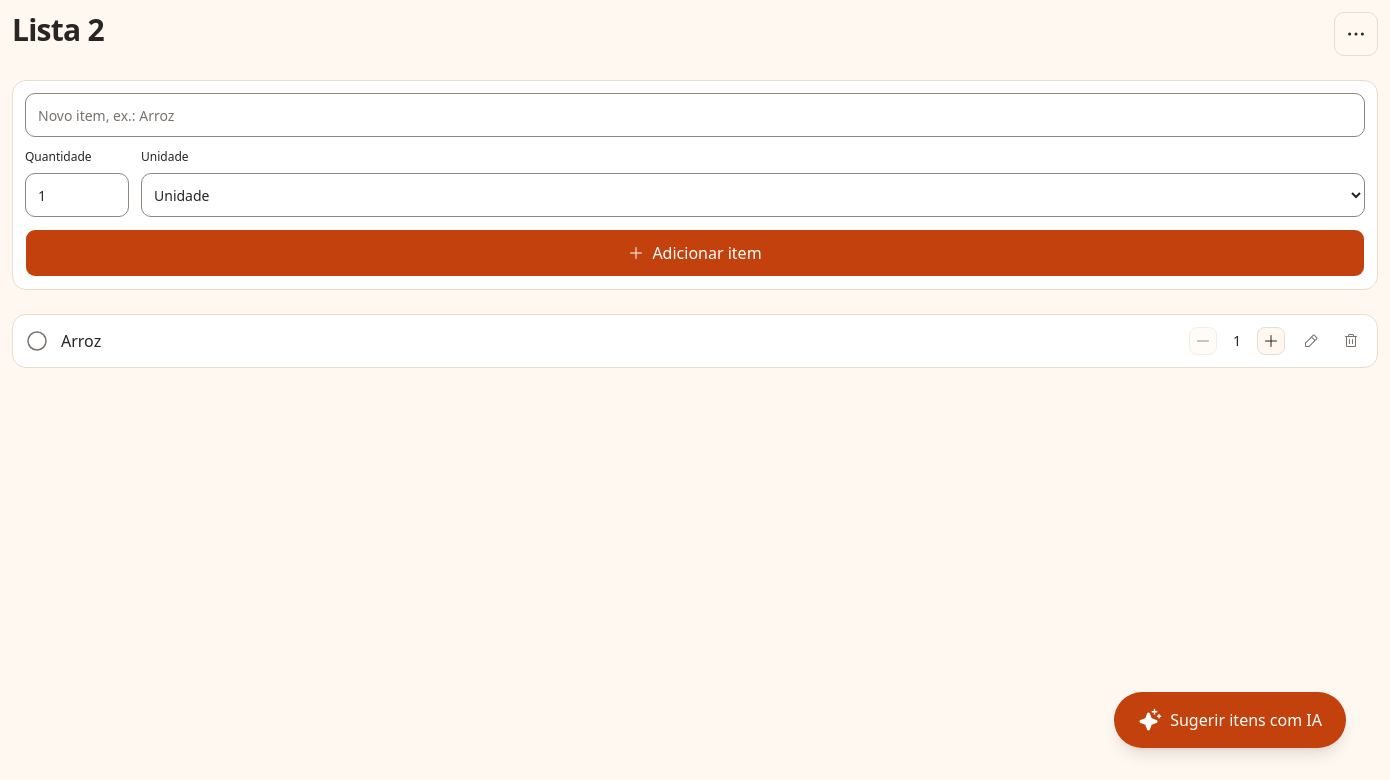
ShopperListDetailView › removes an item
Expected: the text "Arroz" is shown, [61,330,101,352]
Click the button named "Remover Arroz" at (1351, 341), box [1337,327,1365,355]
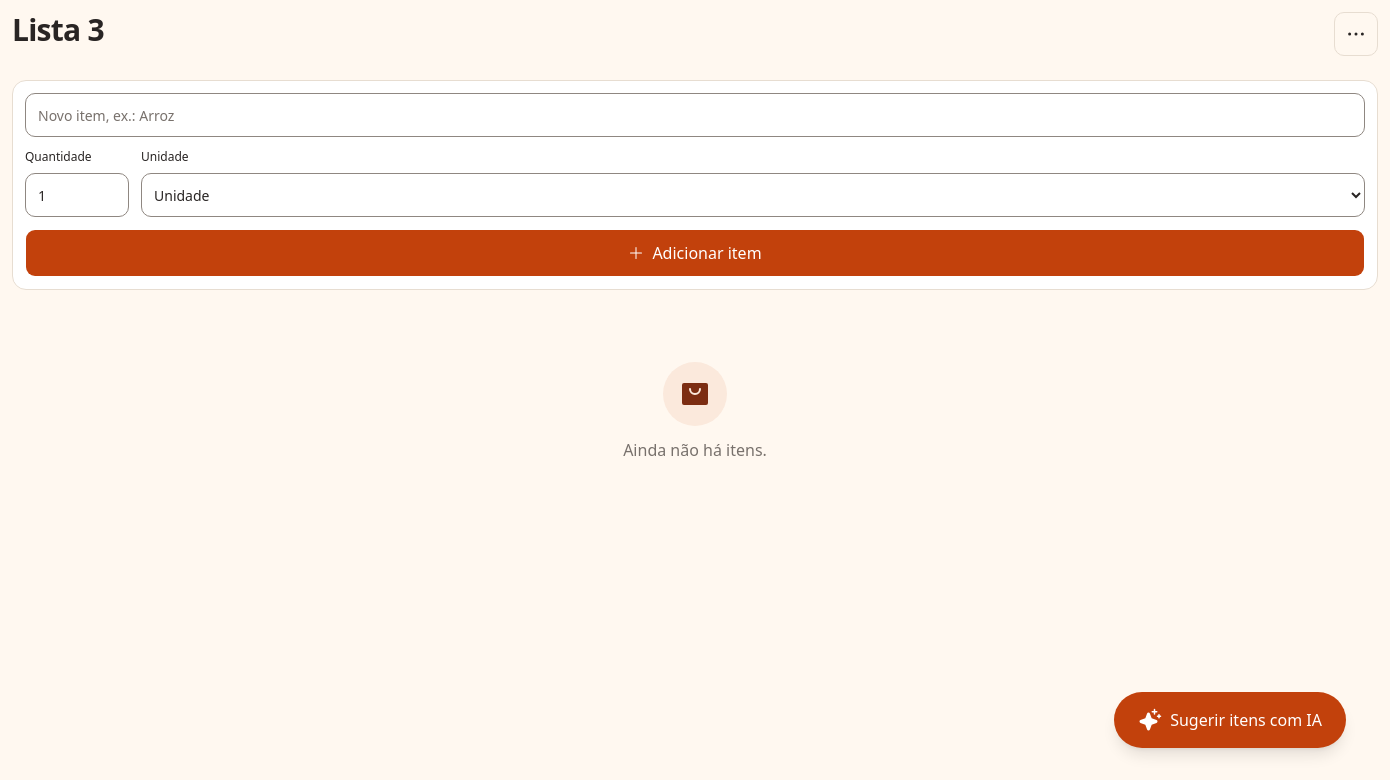
Now the text "Ainda não há itens." is shown, box [623,438,767,462]
